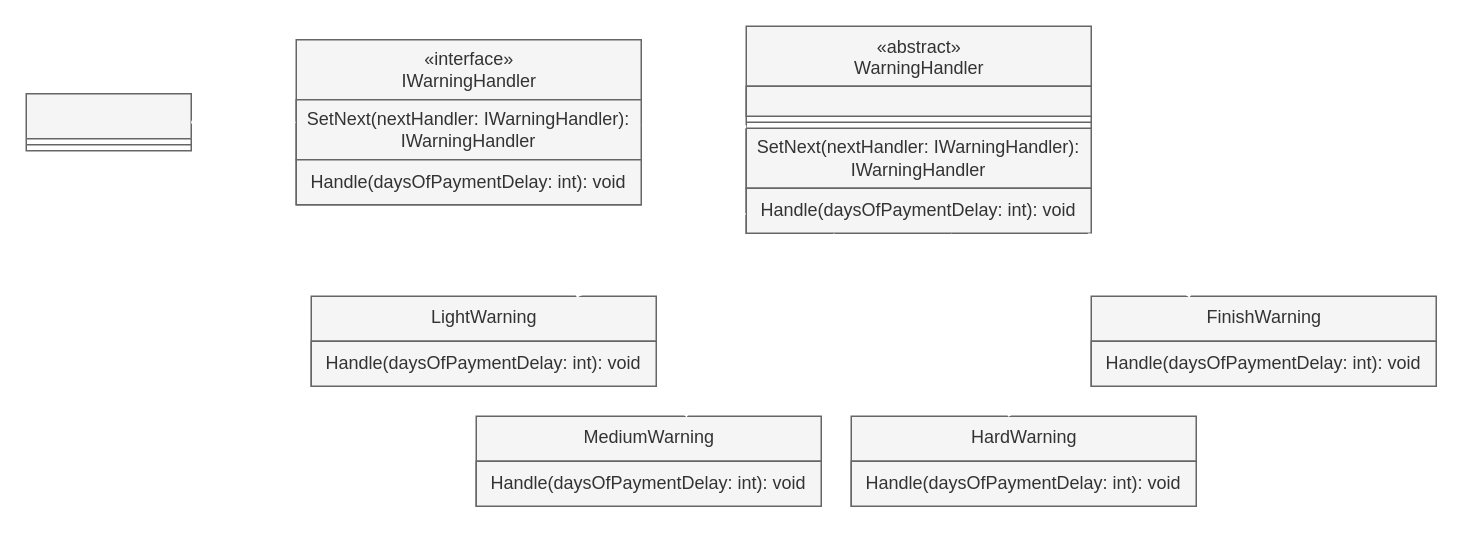
The diagram is 1463 pixels wide and 533 high, and some of its shapes have lost their labels. Here are the shapes that lost their labels. From the top down, the centre of each, then its label:
At (918,100): "- _nextHandler: IWarningHander".
At (108,121): "Program".
